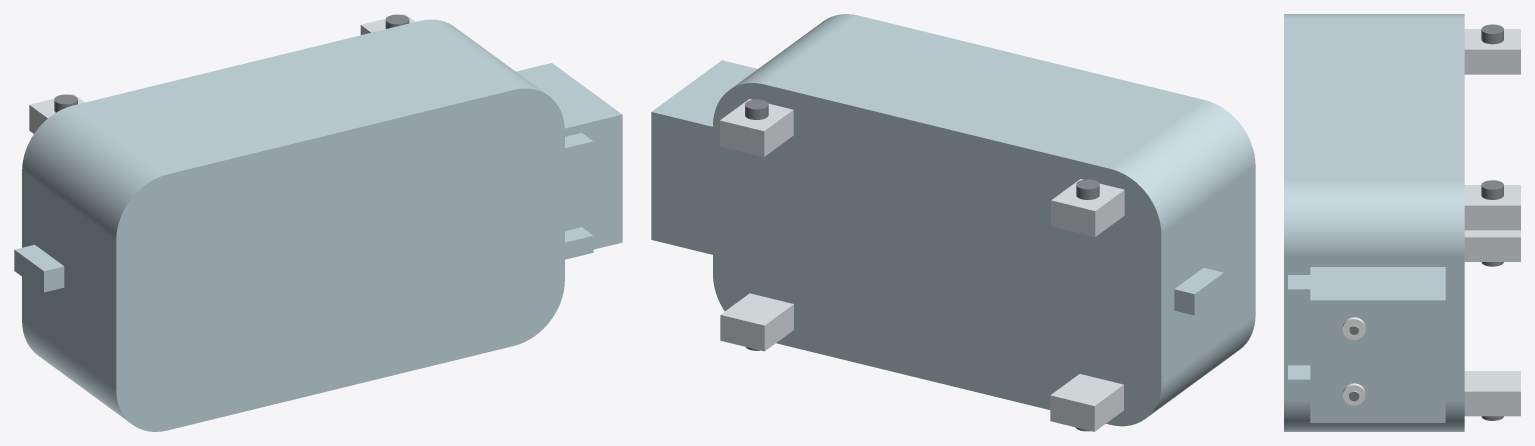
File: PawBot.glb
3 renders of one model, left to right at view 1: azimuth 30°, elevation 25°; view 2: azimuth 150°, elevation 25°; view 3: azimuth 270°, elevation 25°, orthographic. The views are drawn at different scales.
Parts seen in each view (by area): view 1: Part 1; view 2: Part 1; view 3: Part 1.
Part boxes in pixels (x1=…): Part 1: x1=14, y1=14, x2=622, y2=431; Part 1: x1=651, y1=14, x2=1255, y2=431; Part 1: x1=1284, y1=14, x2=1520, y2=431.
Size of the model in its own units: 0.268 by 0.12 by 0.105.
